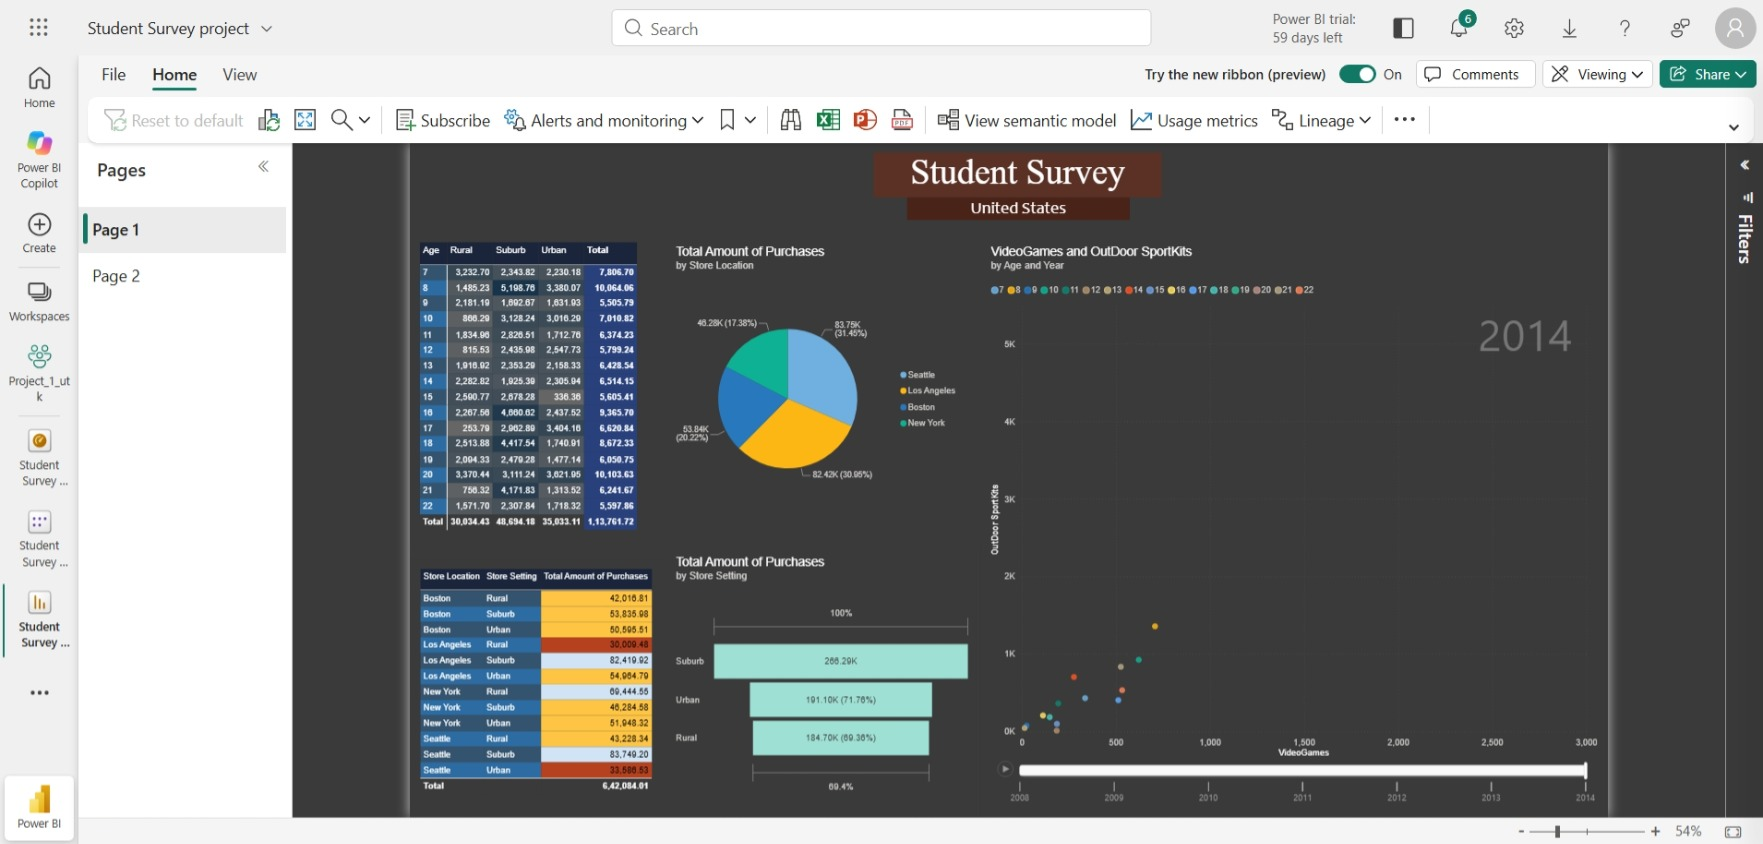

What the dashboard file says about the page in this screenshot:
{"tool":"powerbi","page":{"name":"Page 1","canvas":[1920,1080],"ordinal":0},"visuals":[{"type":"tableEx","fields":{"Values":["Student Survey.Store Location","Student Survey.Store Setting","Sum(Student Survey.Total Amount of Purchases)"]},"box":[0,667.8,410.8,412.6],"z":0},{"type":"pivotTable","fields":{"Columns":["Student Survey.Store Setting"],"Rows":["Student Survey.Age"],"Values":["Sum(Student Survey.OutDoor SportKits)"]},"box":[0,144.8,410.8,501.3],"z":1},{"type":"funnel","fields":{"Category":["Student Survey.Store Setting"],"Y":["Sum(Student Survey.Total Amount of Purchases)"]},"box":[410.8,646,504.9,434.3],"z":2},{"type":"pieChart","fields":{"Category":["Student Survey.Store Location"],"Y":["Sum(Student Survey.Total Amount of Purchases)"]},"box":[410.8,148.4,490.4,466.9],"z":3},{"type":"textbox","box":[0,14.5,461.5,72.4],"z":4},{"type":"textbox","box":[54.3,86.9,356.5,36.2],"z":5},{"type":"scatterChart","fields":{"Play":["Student Survey.Survey Date .Variation.Date Hierarchy.Year"],"Series":["Student Survey.Age"],"X":["Sum(Student Survey.VideoGames)"],"Y":["Sum(Student Survey.OutDoor SportKits)"]},"box":[901.2,0,1018.8,1080.4],"z":6}]}

Visuals, with their boxes on the page's 1920x1080 design canvas (x1, y1, x2, y2). These are canvas units, not pixel positions in the 1763x844 screenshot, which may show the page scaled, cropped or inside an application window:
tableEx - Student Survey.Store Location x Student Survey.Store Setting: pyautogui.locateOnScreen(0, 668, 411, 1080)
pivotTable - Student Survey.Store Setting x Student Survey.Age: pyautogui.locateOnScreen(0, 145, 411, 646)
funnel - Student Survey.Store Setting x Sum(Student Survey.Total Amount of Purchases): pyautogui.locateOnScreen(411, 646, 916, 1080)
pieChart - Student Survey.Store Location x Sum(Student Survey.Total Amount of Purchases): pyautogui.locateOnScreen(411, 148, 901, 615)
textbox: pyautogui.locateOnScreen(0, 14, 462, 87)
textbox: pyautogui.locateOnScreen(54, 87, 411, 123)
scatterChart - Student Survey.Survey Date .Variation.Date Hierarchy.Year x Student Survey.Age: pyautogui.locateOnScreen(901, 0, 1920, 1080)
